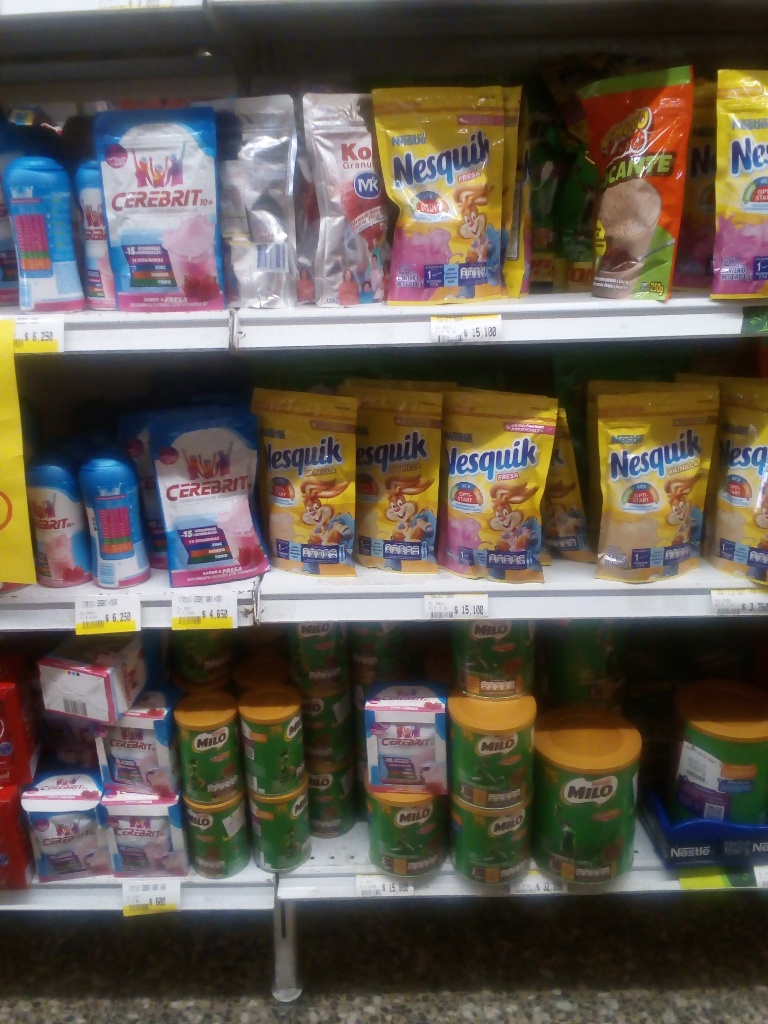COL0170102DYP25000: (578, 66, 700, 305)
COL0170203LAT20000: (311, 756, 360, 842)
COL0170203LAT40000: (453, 793, 541, 894)
COL0170305DYP20000: (714, 66, 768, 299)
COL0170306DYP20000: (711, 378, 768, 583)
